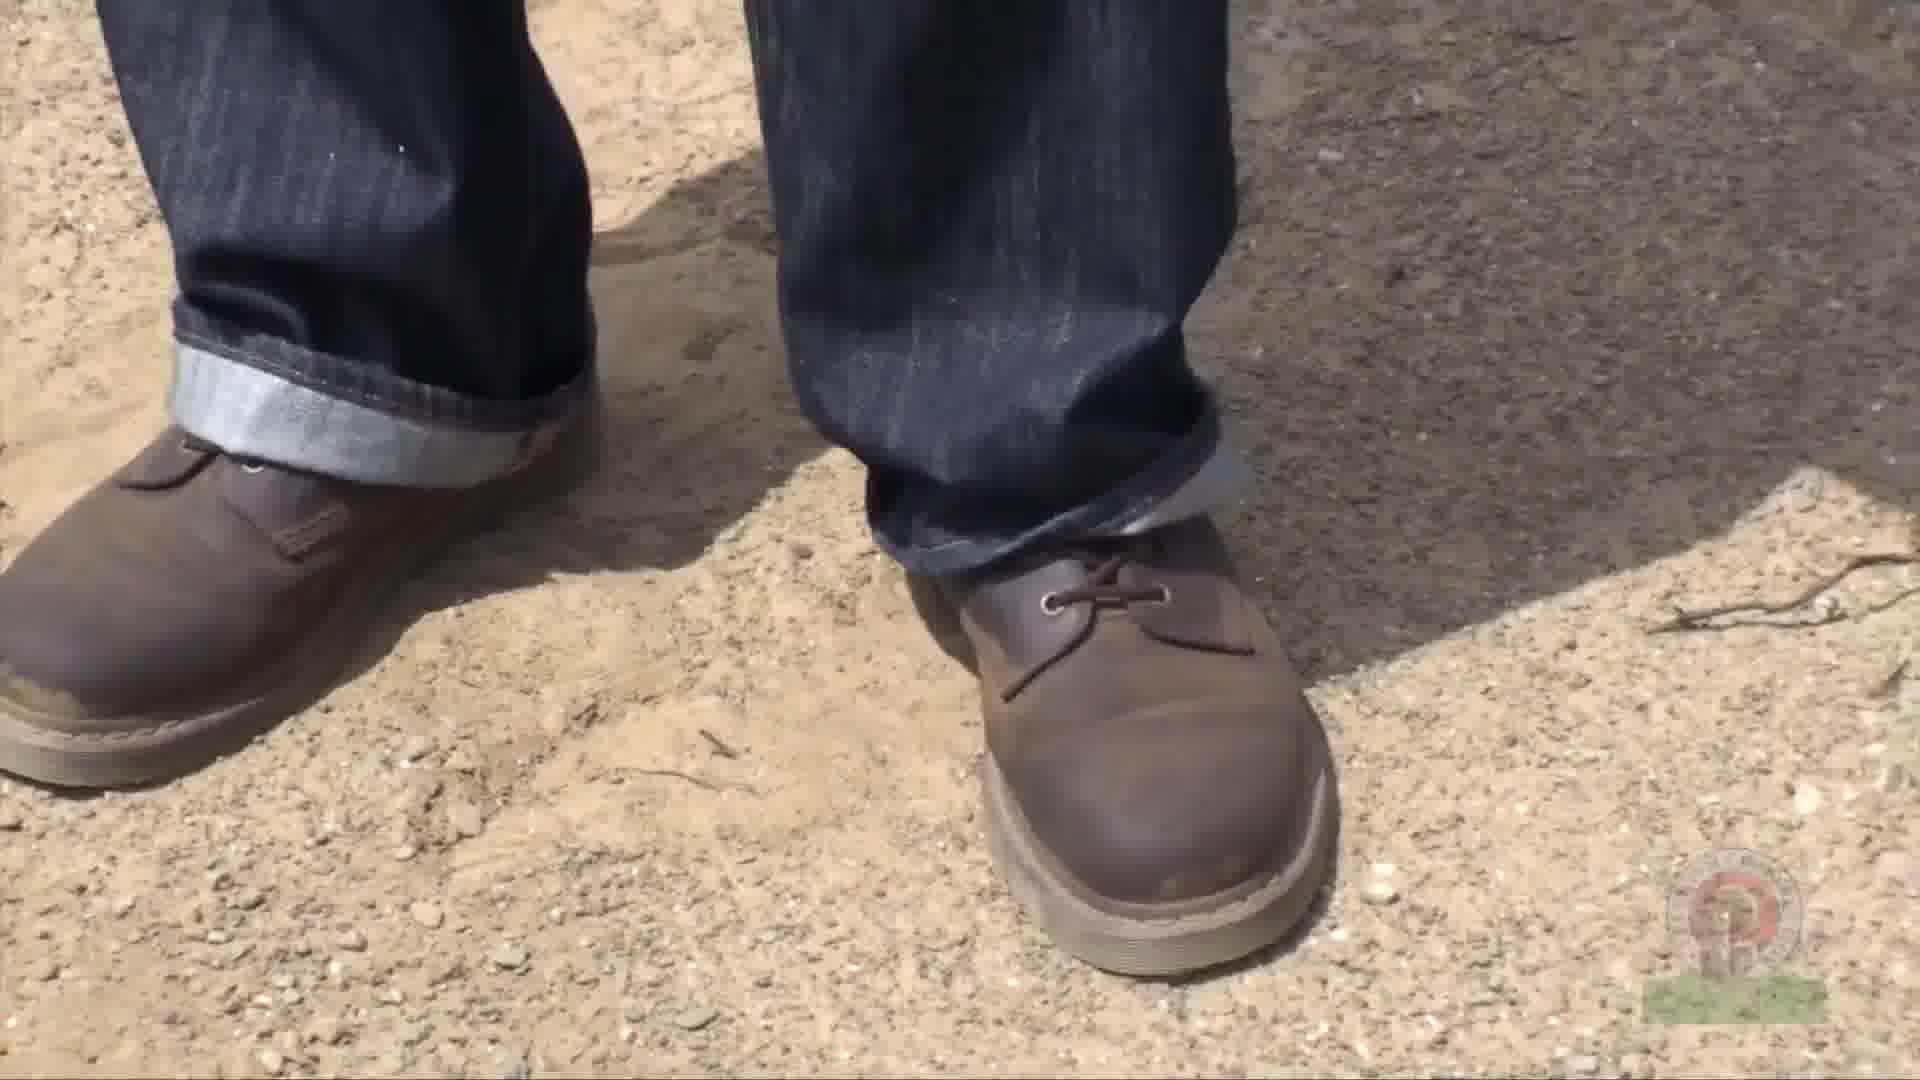safety boot: (4, 318, 1346, 1077)
